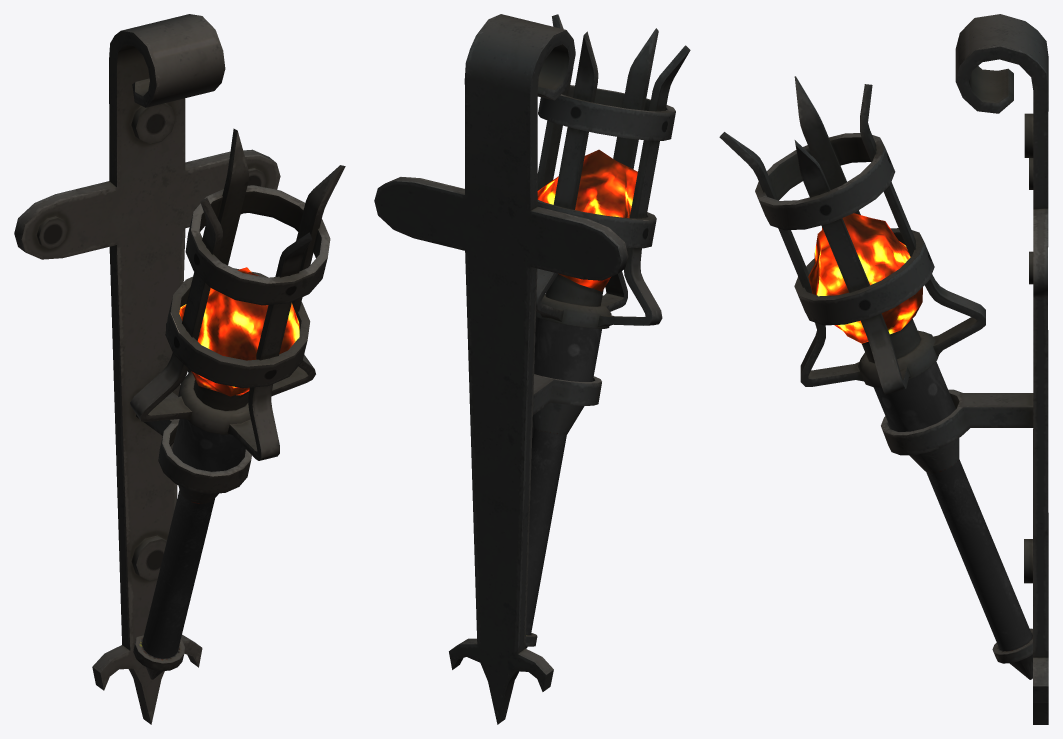
The model's file is torch.glb.
3 renders of one model, left to right at view 1: azimuth 30°, elevation 25°; view 2: azimuth 150°, elevation 25°; view 3: azimuth 270°, elevation 25°, orthographic. The views are drawn at different scales.
Visible parts, largest first — view 1: torchholder, torch_2; view 2: torchholder, torch_2; view 3: torch_2, torchholder.
Boxes of the visible parts, x1,y1,x2,y2 form: torchholder: (14,14,280,724); torch_2: (130,128,345,679); torchholder: (374,14,628,724); torch_2: (525,14,690,648); torch_2: (719,76,1032,679); torchholder: (881,14,1048,724).
Size of the model in its own units: 40.86 by 108 by 46.21.
Materials: 1 (1 with a texture image).
